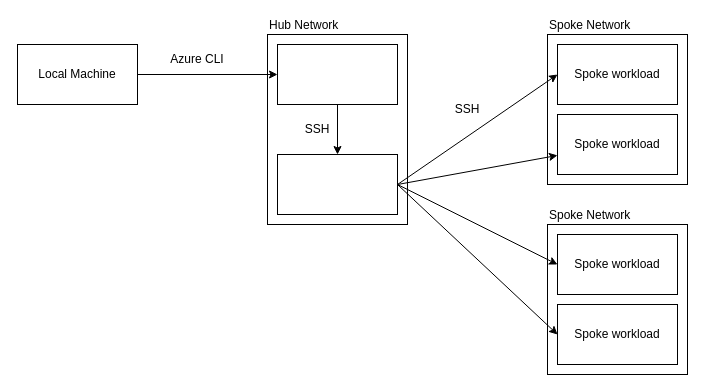
This 705x392 diagram has some shape labels left out. The centre of each missing label's shape, as x and y in pixels:
Jump ACI: point (337, 74)
Jumphost VM: point (337, 184)
